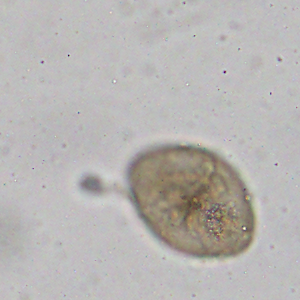Fasciola_hepatica_egg: (126, 142, 258, 258)
